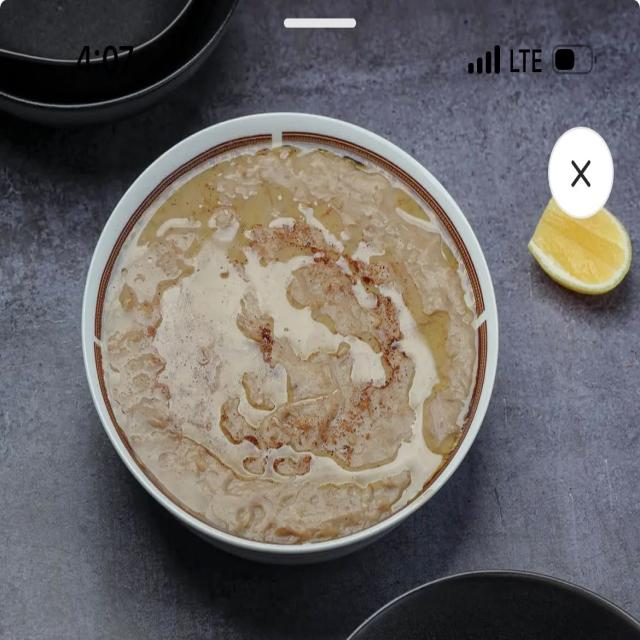Harees: (92, 131, 485, 551)
